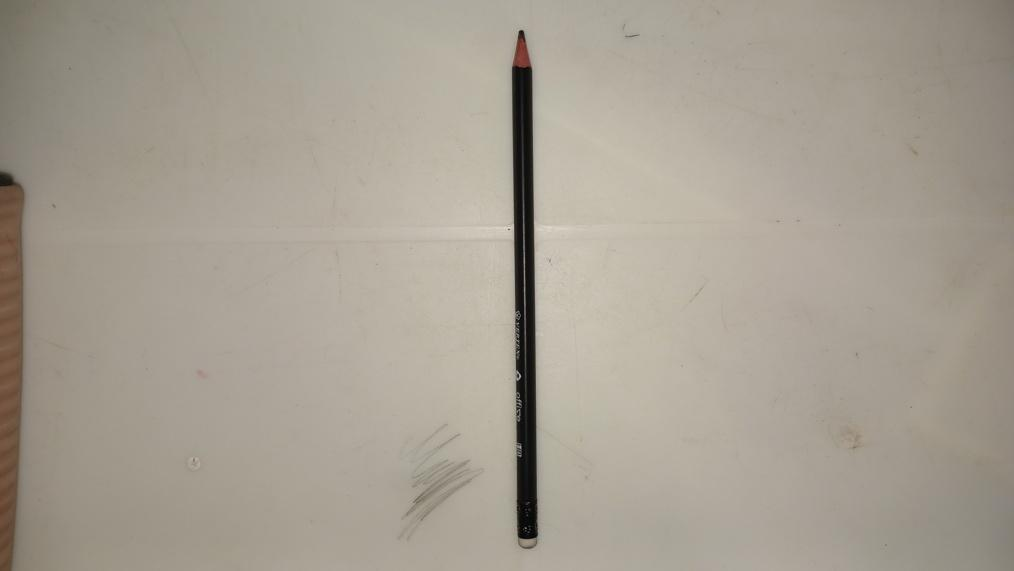Pencil: (514, 29, 540, 550)
